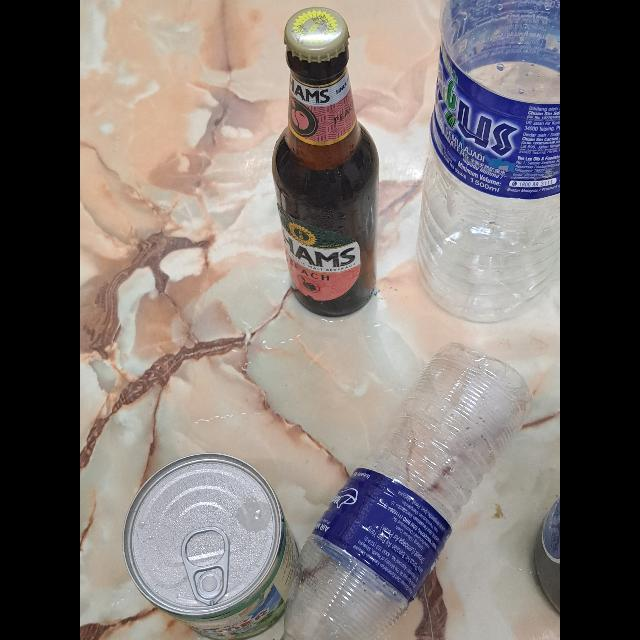aba de lata: (180, 528, 232, 604)
garrafa de vidro: (271, 9, 379, 319)
garrafa plástica: (282, 344, 532, 640), (416, 0, 560, 322)
lata: (125, 452, 303, 640)
